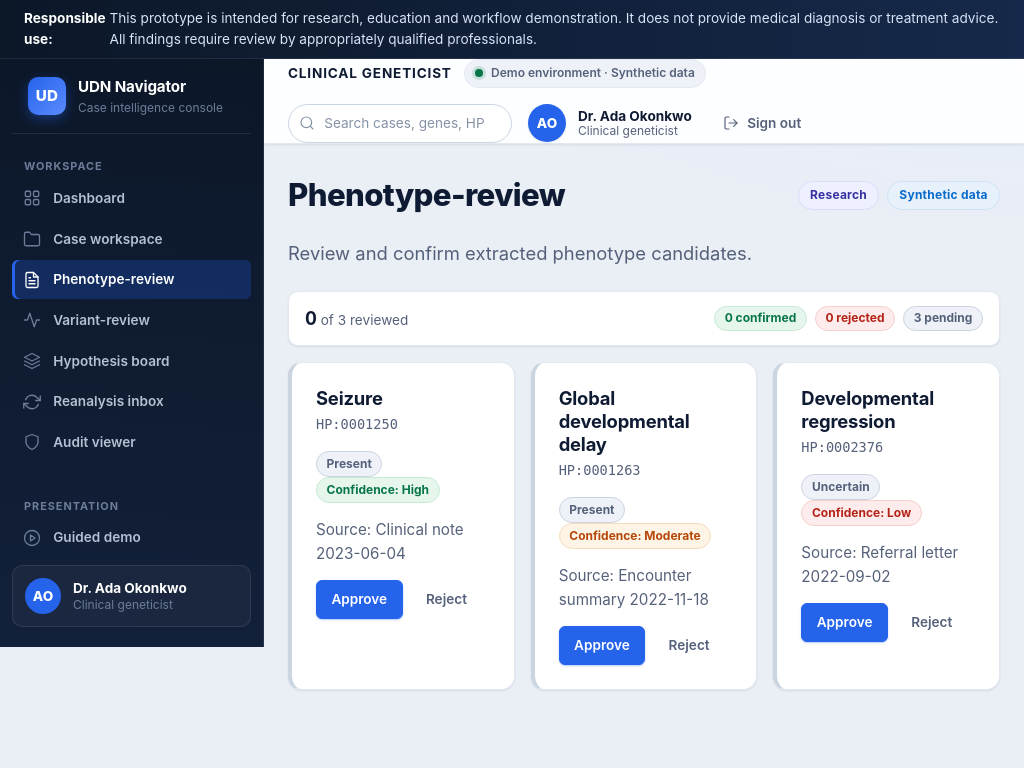
it: Phenotype-review interactions › confirms a candidate and updates the review tally
This screenshot has width=1024, height=768.
Step 1. Click the button "Approve" below "Seizure" → (359,600), box [316,580,402,619]
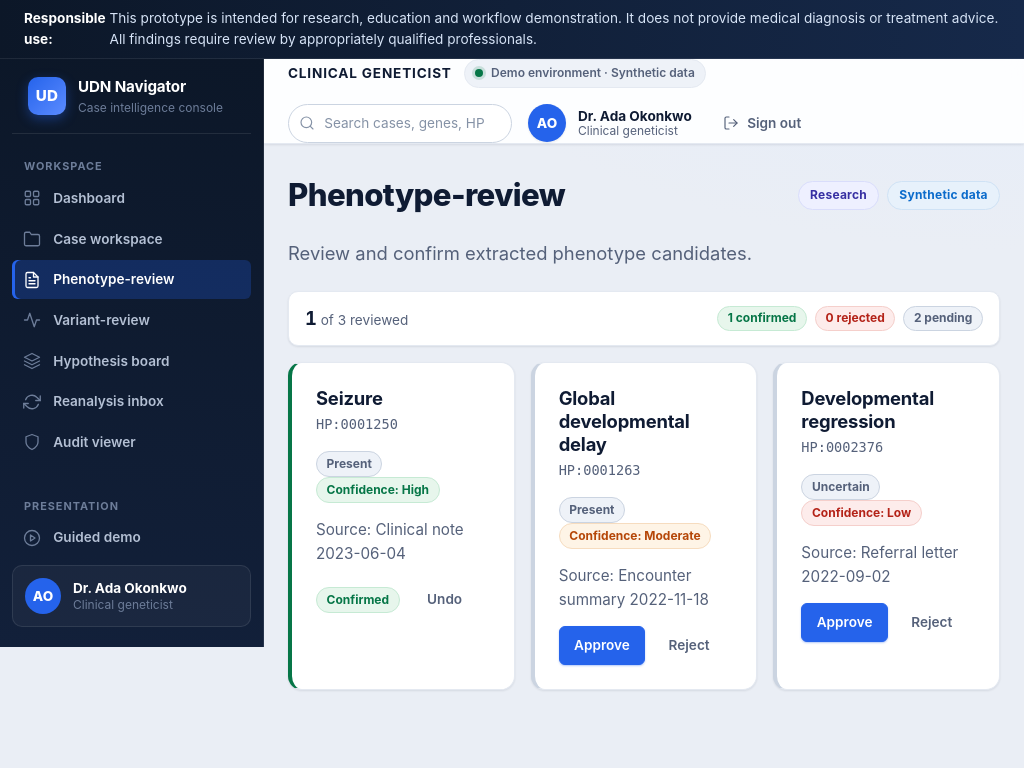
Now the text "Confirmed" is shown, box [316,587,400,613]
Now the button "Undo" is shown
Now the text "1 confirmed" is shown, box [717,306,807,331]
# Undo returns it to pending and the Approve control comes back.
Step 2. Click the button "Undo" → (445,600), box [412,580,478,619]
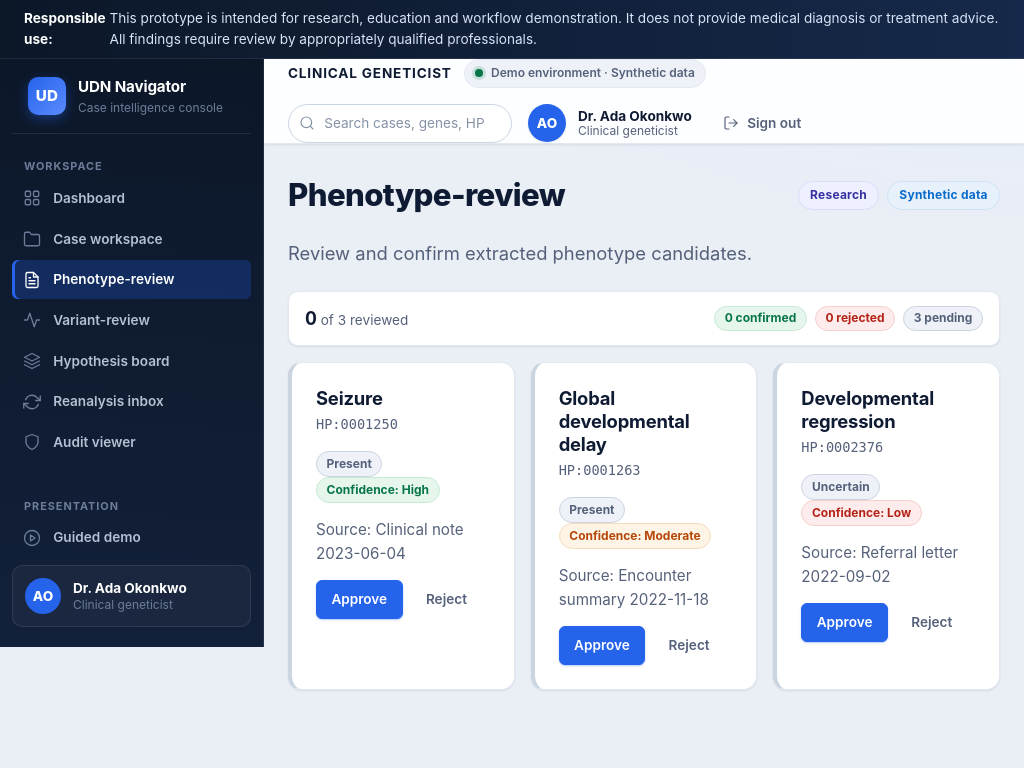
Now the button "Approve" below "Seizure" is shown, box [316,580,402,619]
Now the text "0 confirmed" is shown, box [714,306,807,331]
